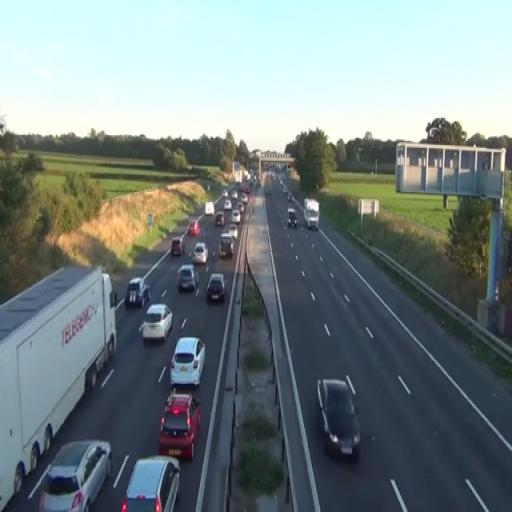Car: (34, 438, 113, 512), (316, 376, 362, 462), (121, 455, 181, 512), (158, 391, 200, 461), (170, 336, 205, 389), (142, 303, 173, 344), (177, 265, 198, 293), (206, 273, 225, 303), (216, 234, 234, 260), (191, 242, 208, 266)
Truck: (0, 263, 118, 508), (304, 198, 320, 230)
